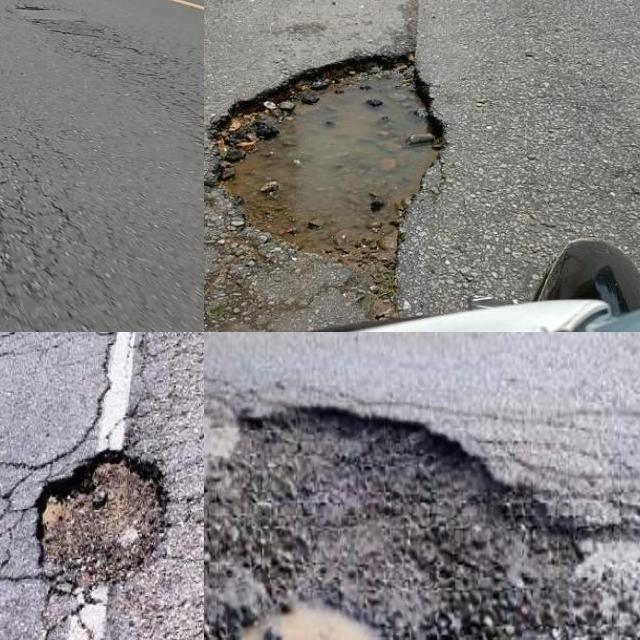Lubang: (204, 394, 581, 640), (209, 52, 450, 266), (31, 458, 173, 588)
Retak Buaya: (0, 332, 204, 640), (0, 124, 120, 332)
